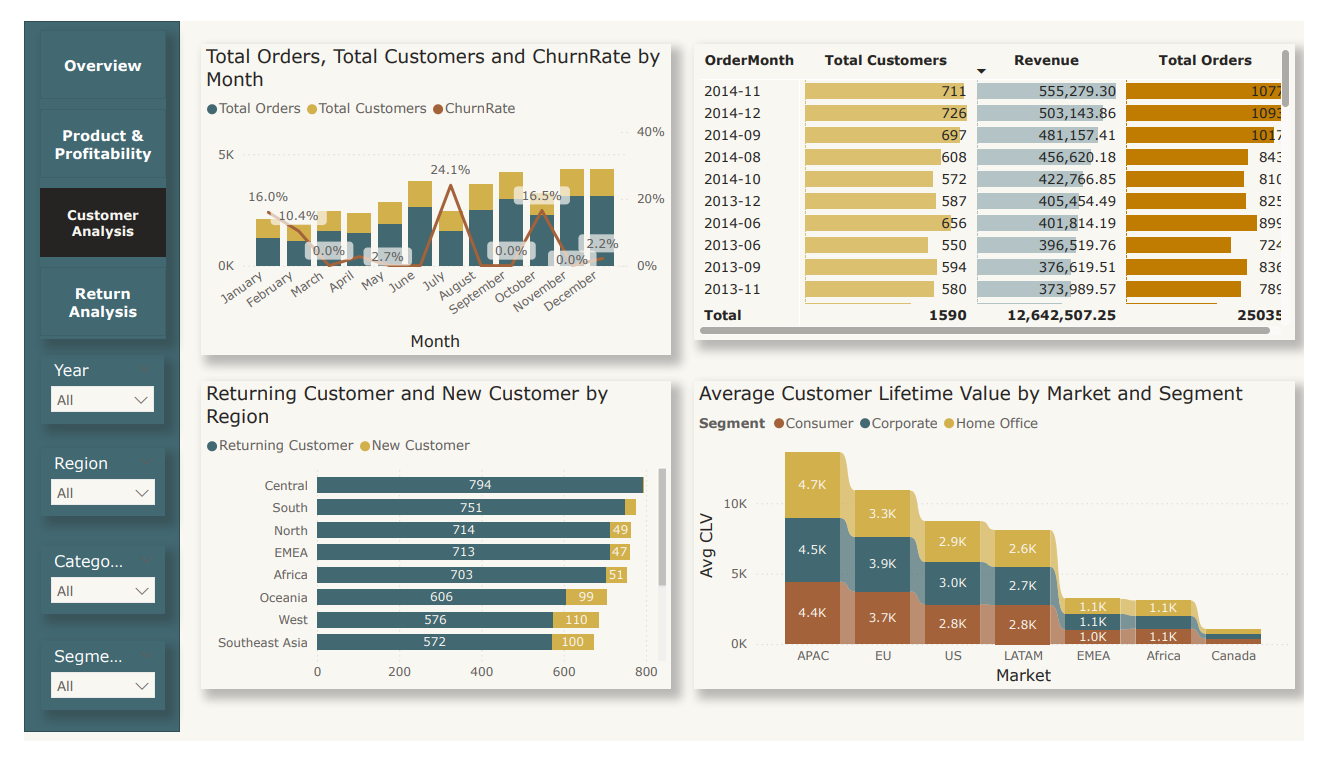

What the dashboard file says about the page in this screenshot:
{"tool":"powerbi","page":{"name":"Customer Analysis","canvas":[1280,720],"ordinal":2},"visuals":[{"type":"pageNavigator","box":[8.6,14.7,140.6,294.7],"z":0},{"type":"slicer","fields":{"Values":["DateTable.Year"]},"box":[7.3,333.8,139.4,68.5],"z":1000},{"type":"slicer","fields":{"Values":["Sales_data.Region"]},"box":[7.3,426.8,140,68],"z":2000},{"type":"slicer","fields":{"Values":["Sales_data.Category"]},"box":[7.3,524.6,140.6,68],"z":3000},{"type":"slicer","fields":{"Values":["Sales_data.Segment"]},"box":[7.3,620,140.6,68.5],"z":4000},{"type":"barChart","fields":{"Category":["Sales_data.Region"],"Y":["Sales_data.Returning Customer","Sales_data.New Customer"]},"box":[177.3,359.5,469.6,308.2],"z":5000},{"type":"pivotTable","fields":{"Rows":["Sales_data.OrderMonth"],"Values":["Sales_data.Total Customers","Sales_data.Revenue","Sales_data.Total Orders"]},"box":[670.1,23.2,600.4,295.9],"z":6000},{"type":"columnChart","title":"Average Customer Lifetime Value by Market and Segment","fields":{"Category":["Sales_data.Market"],"Y":["Sales_data.Avg CLV"],"Series":["Sales_data.Segment"]},"box":[670.1,359.5,600.4,308.2],"z":7000},{"type":"lineStackedColumnComboChart","title":"Total Orders, Total Customers and ChurnRate by Month","fields":{"Y":["Sales_data.Total Orders","Sales_data.Total Customers"],"Y2":["Sales_data.ChurnRate"],"Category":["DateTable.Date.Variation.Date Hierarchy.Month"]},"box":[177.3,23.2,469.6,310.6],"z":8000}]}

Visuals, with their boxes in screenshot pixels (x1, y1, x2, y2), scaled from the page's 1280x720 canvas onto the 1325x761 screenshot:
pageNavigator: 9 16 154 327
slicer - DateTable.Year: 8 353 152 425
slicer - Sales_data.Region: 8 451 152 523
slicer - Sales_data.Category: 8 554 153 626
slicer - Sales_data.Segment: 8 655 153 728
barChart - Sales_data.Region x Sales_data.Returning Customer: 184 380 670 706
pivotTable - Sales_data.OrderMonth x Sales_data.Total Customers: 694 25 1315 337
"Average Customer Lifetime Value by Market and Segment" columnChart: 694 380 1315 706
"Total Orders, Total Customers and ChurnRate by Month" lineStackedColumnComboChart: 184 25 670 353
